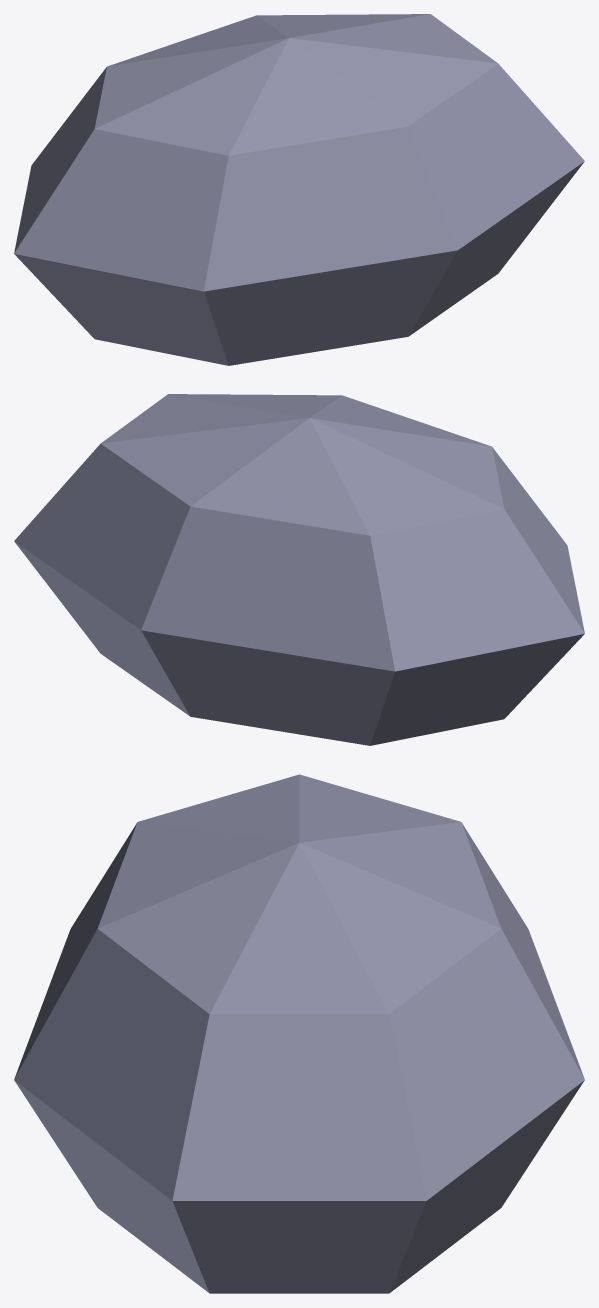
Rendered from rock.glb.
The picture shows the model from 3 angles, top to bottom: view 1: azimuth 30°, elevation 25°; view 2: azimuth 150°, elevation 25°; view 3: azimuth 270°, elevation 25°; orthographic projection. The views are drawn at different scales.
Visible parts, largest first — view 1: RF_Rock_Asset_Asset; view 2: RF_Rock_Asset_Asset; view 3: RF_Rock_Asset_Asset.
Boxes of the visible parts, left/top/right/bottom form: RF_Rock_Asset_Asset: left=14, top=14, right=584, bottom=365; RF_Rock_Asset_Asset: left=14, top=394, right=584, bottom=745; RF_Rock_Asset_Asset: left=14, top=774, right=584, bottom=1293.
Bounding box in the file's own units: 1.18 × 0.64 × 0.8384.
